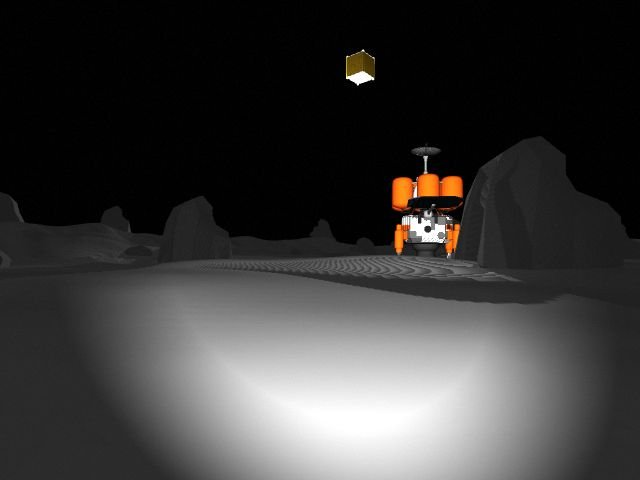cubesat: (338, 45, 381, 90)
